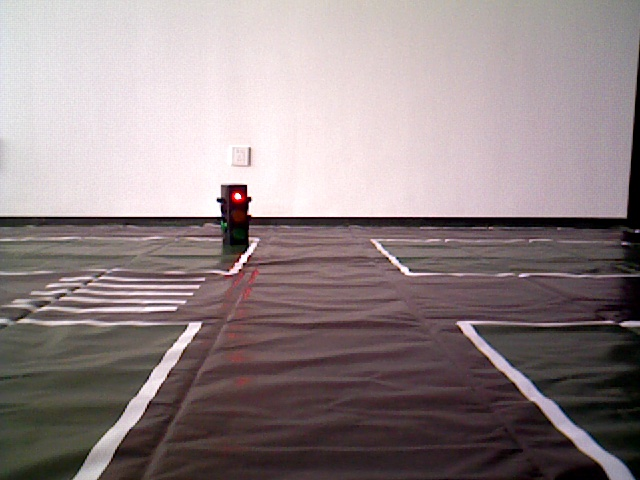red: (222, 184, 246, 245)
